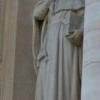Statue: (25, 0, 88, 100)
